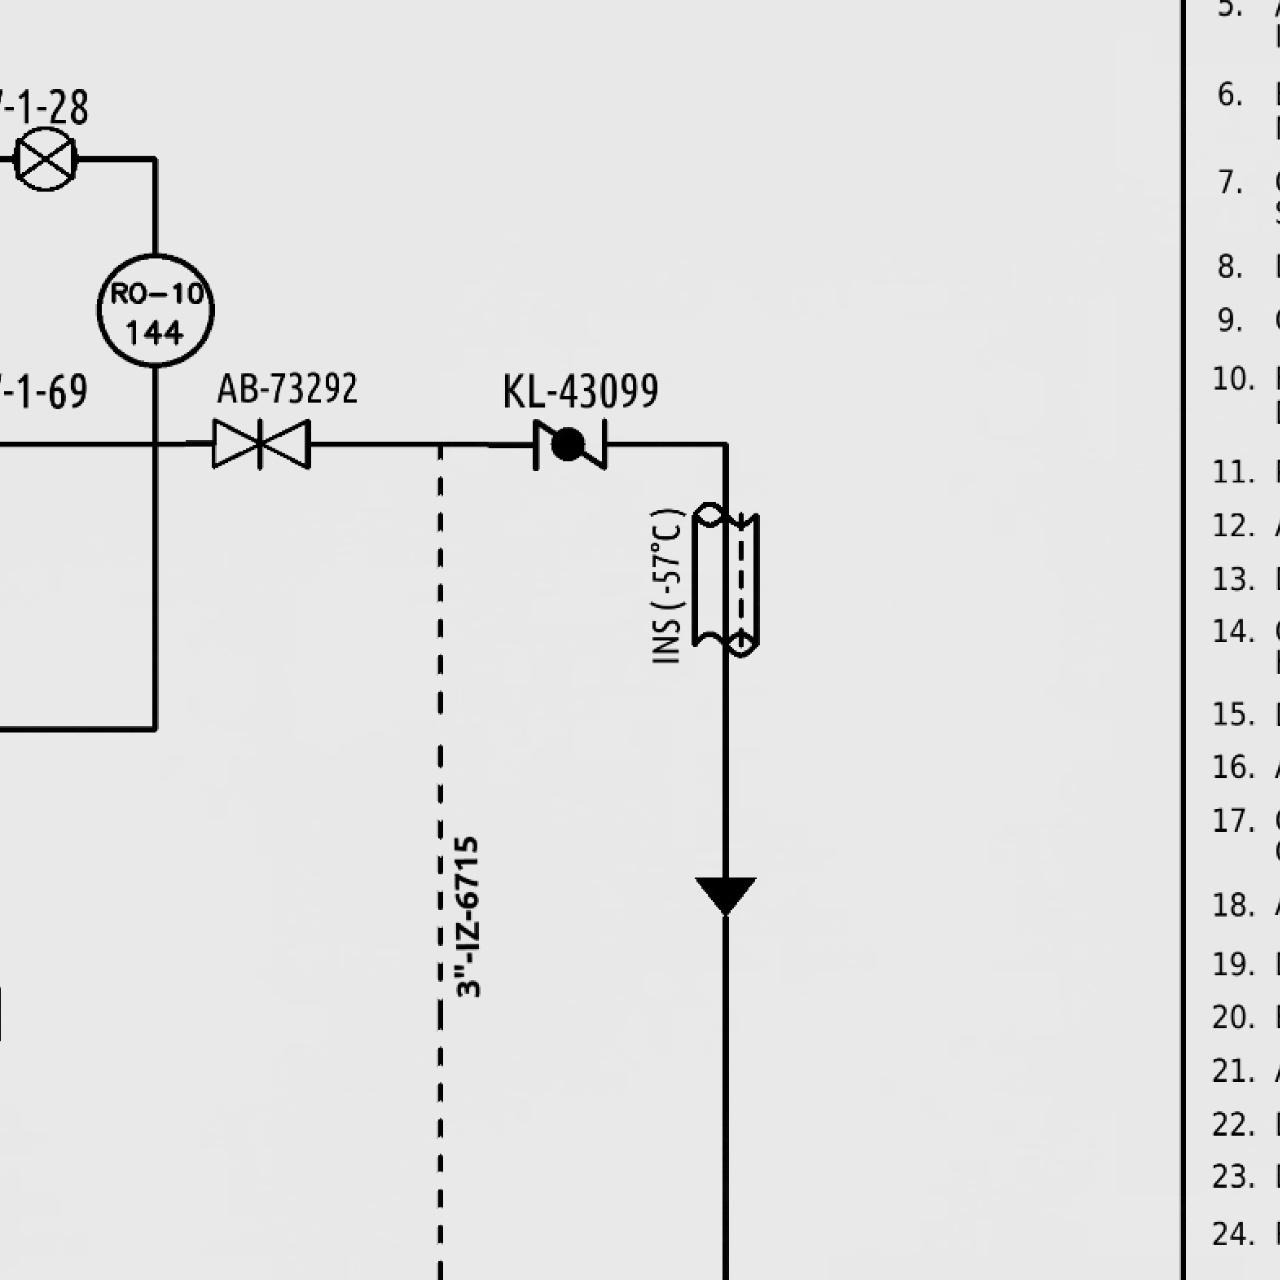Control-Panel: (91, 246, 217, 373)
